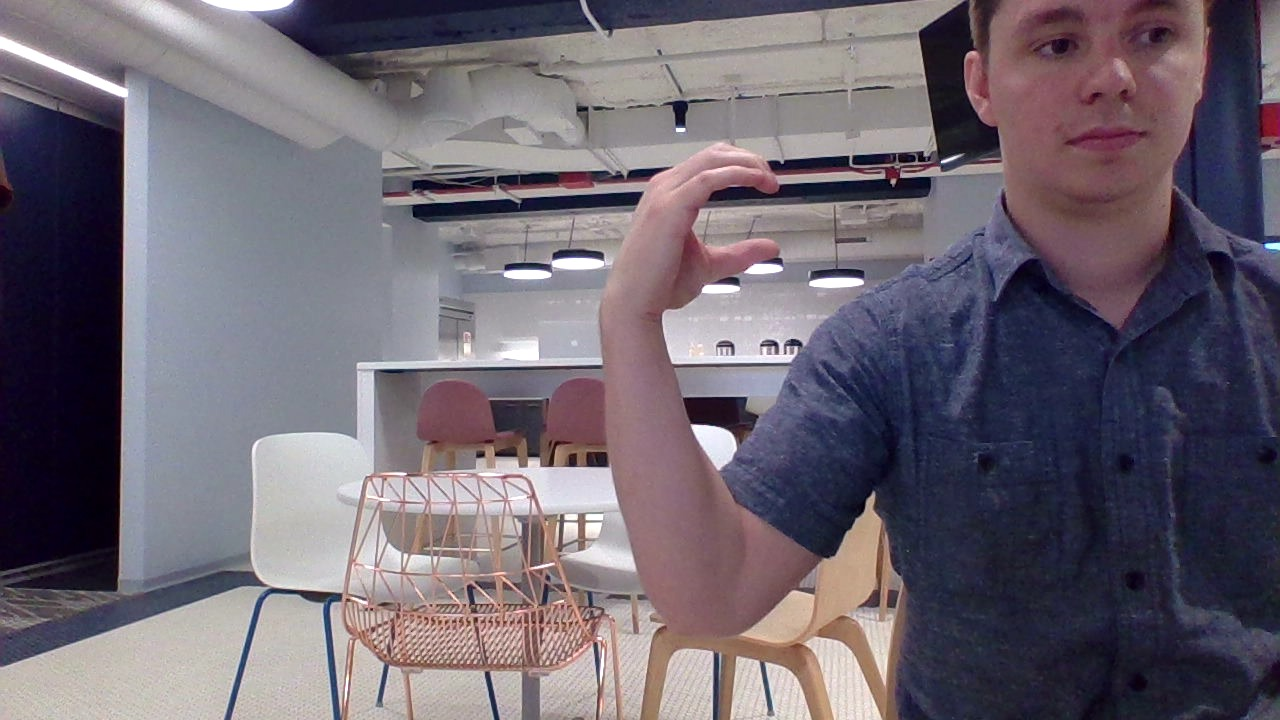c: (590, 127, 788, 314)
